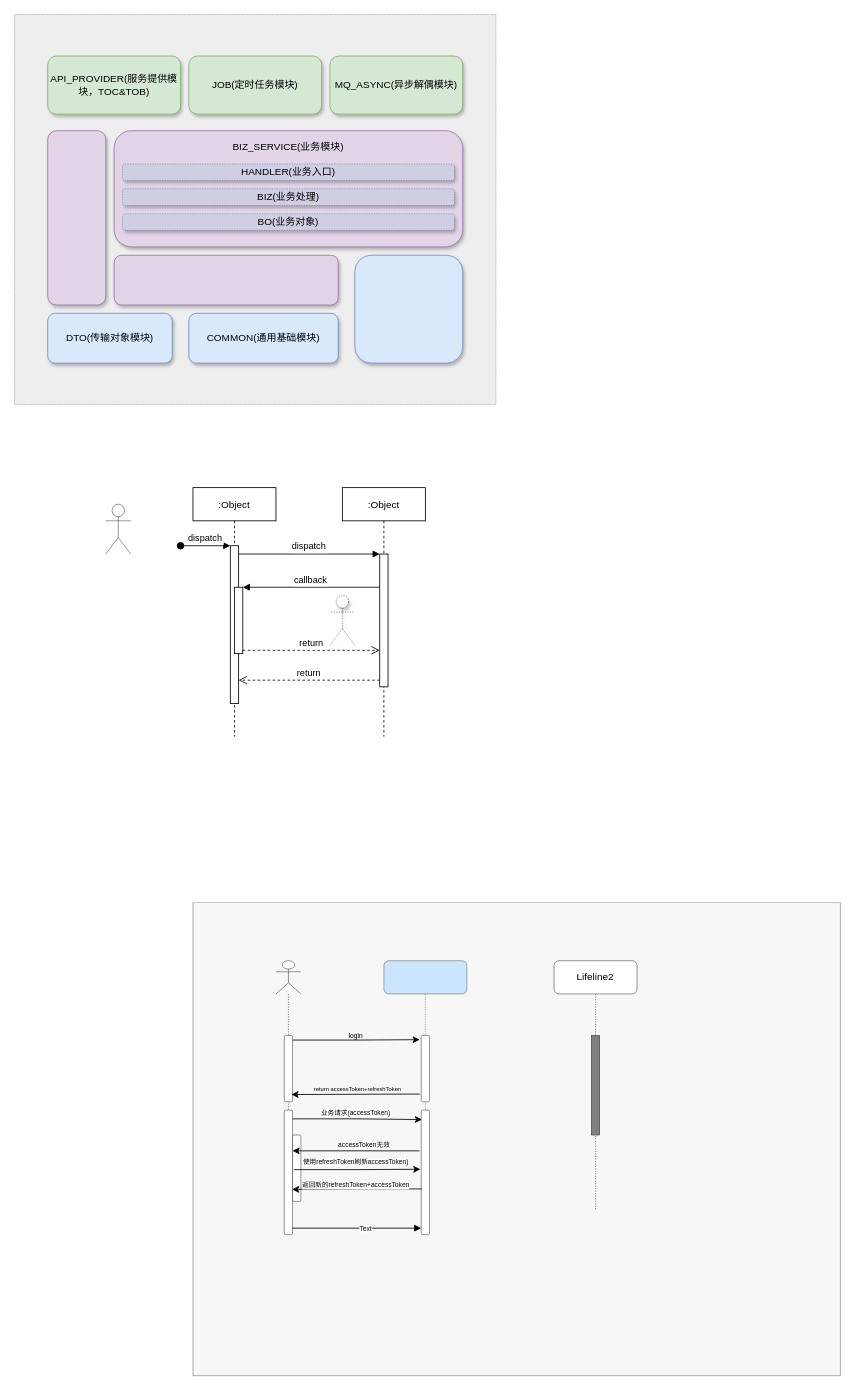
Image size: 855x1390. Some labels were removed from this diagram. The shapes that lost their labels are listed below. From the top down, each one's centre as x and y in pixels, then its label:
At point (77, 219): "API(接口定义模块)".
At point (226, 281): "THIRD(第三方对接模块)".
At point (409, 310): "DATA(DAO模块)".
At point (118, 529): "user".
At point (343, 621): "Actor".
